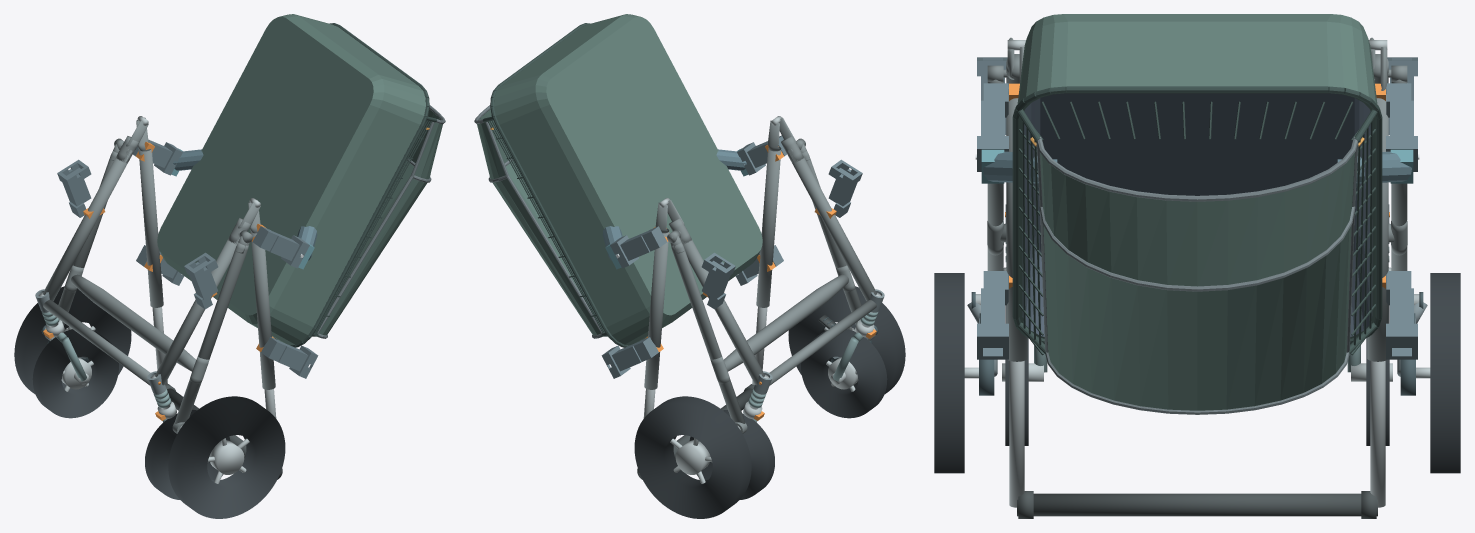
File: S04_w650_state3_wheel_M.glb
The picture shows the model from 3 angles, left to right: view 1: azimuth 30°, elevation 25°; view 2: azimuth 150°, elevation 25°; view 3: azimuth 270°, elevation 25°; orthographic projection. The views are drawn at different scales.
Parts seen in each view (by area): view 1: S04_Cabin, RL_tire.008, FR_tire.008, RR_tire.008, V46_rearbar.009, main_lower_1.009, main_upper_1.009, V46_rear_leg_-1.009, main_upper_-1.009, FL_tire.008, main_lower_-1.009, front_fixed_round_tube.008 (+9 smaller); view 2: S04_Cabin, RR_tire.008, FL_tire.008, RL_tire.008, V46_rearbar.009, main_lower_-1.009, main_upper_-1.009, V46_rear_leg_1.009, main_upper_1.009, FR_tire.008, main_lower_1.009, front_fixed_round_tube.008 (+9 smaller); view 3: S04_Cabin, round_handle.008, RL_tire.008, RR_tire.008, Universal_Cabin_Receiver_H_1, Universal_Cabin_Receiver_H_-1, S04_Cabin_Mount_M, handle_slider_1.008, handle_slider_-1.008, Universal_Cabin_Receiver_M_-1, Universal_Cabin_Receiver_M_1, main_upper_1.009 (+5 smaller).
Part boxes in pixels (<box>): S04_Cabin: <box>157,14,445,347</box>; RL_tire.008: <box>168,396,285,518</box>; FR_tire.008: <box>32,329,118,418</box>; RR_tire.008: <box>14,286,131,394</box>; V46_rearbar.009: <box>71,274,195,371</box>; main_lower_1.009: <box>43,150,132,301</box>; main_upper_1.009: <box>138,149,163,307</box>; V46_rear_leg_-1.009: <box>174,242,248,423</box>; main_upper_-1.009: <box>250,231,275,389</box>; FL_tire.008: <box>145,410,230,499</box>; main_lower_-1.009: <box>155,238,239,385</box>; front_fixed_round_tube.008: <box>43,300,150,385</box>; S04_Cabin: <box>474,14,762,347</box>; RR_tire.008: <box>634,396,751,518</box>; FL_tire.008: <box>801,329,887,418</box>; RL_tire.008: <box>788,286,905,394</box>; V46_rearbar.009: <box>724,274,848,371</box>; main_lower_-1.009: <box>787,150,876,301</box>; main_upper_-1.009: <box>756,149,781,307</box>; V46_rear_leg_1.009: <box>671,242,745,423</box>; main_upper_1.009: <box>644,231,669,389</box>; FR_tire.008: <box>689,410,774,499</box>; main_lower_1.009: <box>680,238,764,385</box>; front_fixed_round_tube.008: <box>769,300,876,385</box>; S04_Cabin: <box>1012,14,1382,414</box>; round_handle.008: <box>1017,493,1377,516</box>; RL_tire.008: <box>934,273,964,473</box>; RR_tire.008: <box>1430,273,1460,473</box>; Universal_Cabin_Receiver_H_1: <box>1386,271,1417,359</box>; Universal_Cabin_Receiver_H_-1: <box>977,271,1008,359</box>; S04_Cabin_Mount_M: <box>975,149,1419,189</box>; handle_slider_1.008: <box>1370,361,1385,507</box>; handle_slider_-1.008: <box>1009,361,1024,507</box>; Universal_Cabin_Receiver_M_-1: <box>977,83,1008,171</box>; Universal_Cabin_Receiver_M_1: <box>1386,83,1417,171</box>; main_upper_1.009: <box>1367,94,1388,361</box>.
Size of the model in its own units: 0.9089 by 0.9747 by 0.7871.
